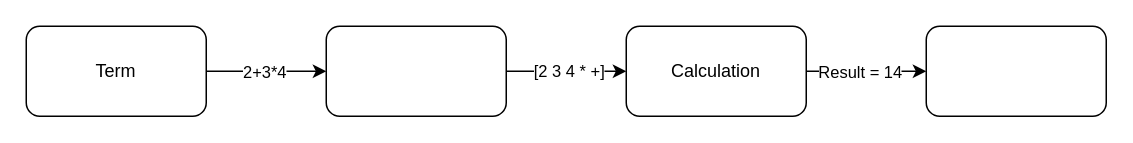
Image size: 1133x143. Some labels were removed from this diagram. The centre of each missing label's shape, as x and y in pixels:
"Parser" goes at (415,70).
"Result" goes at (1015,70).
